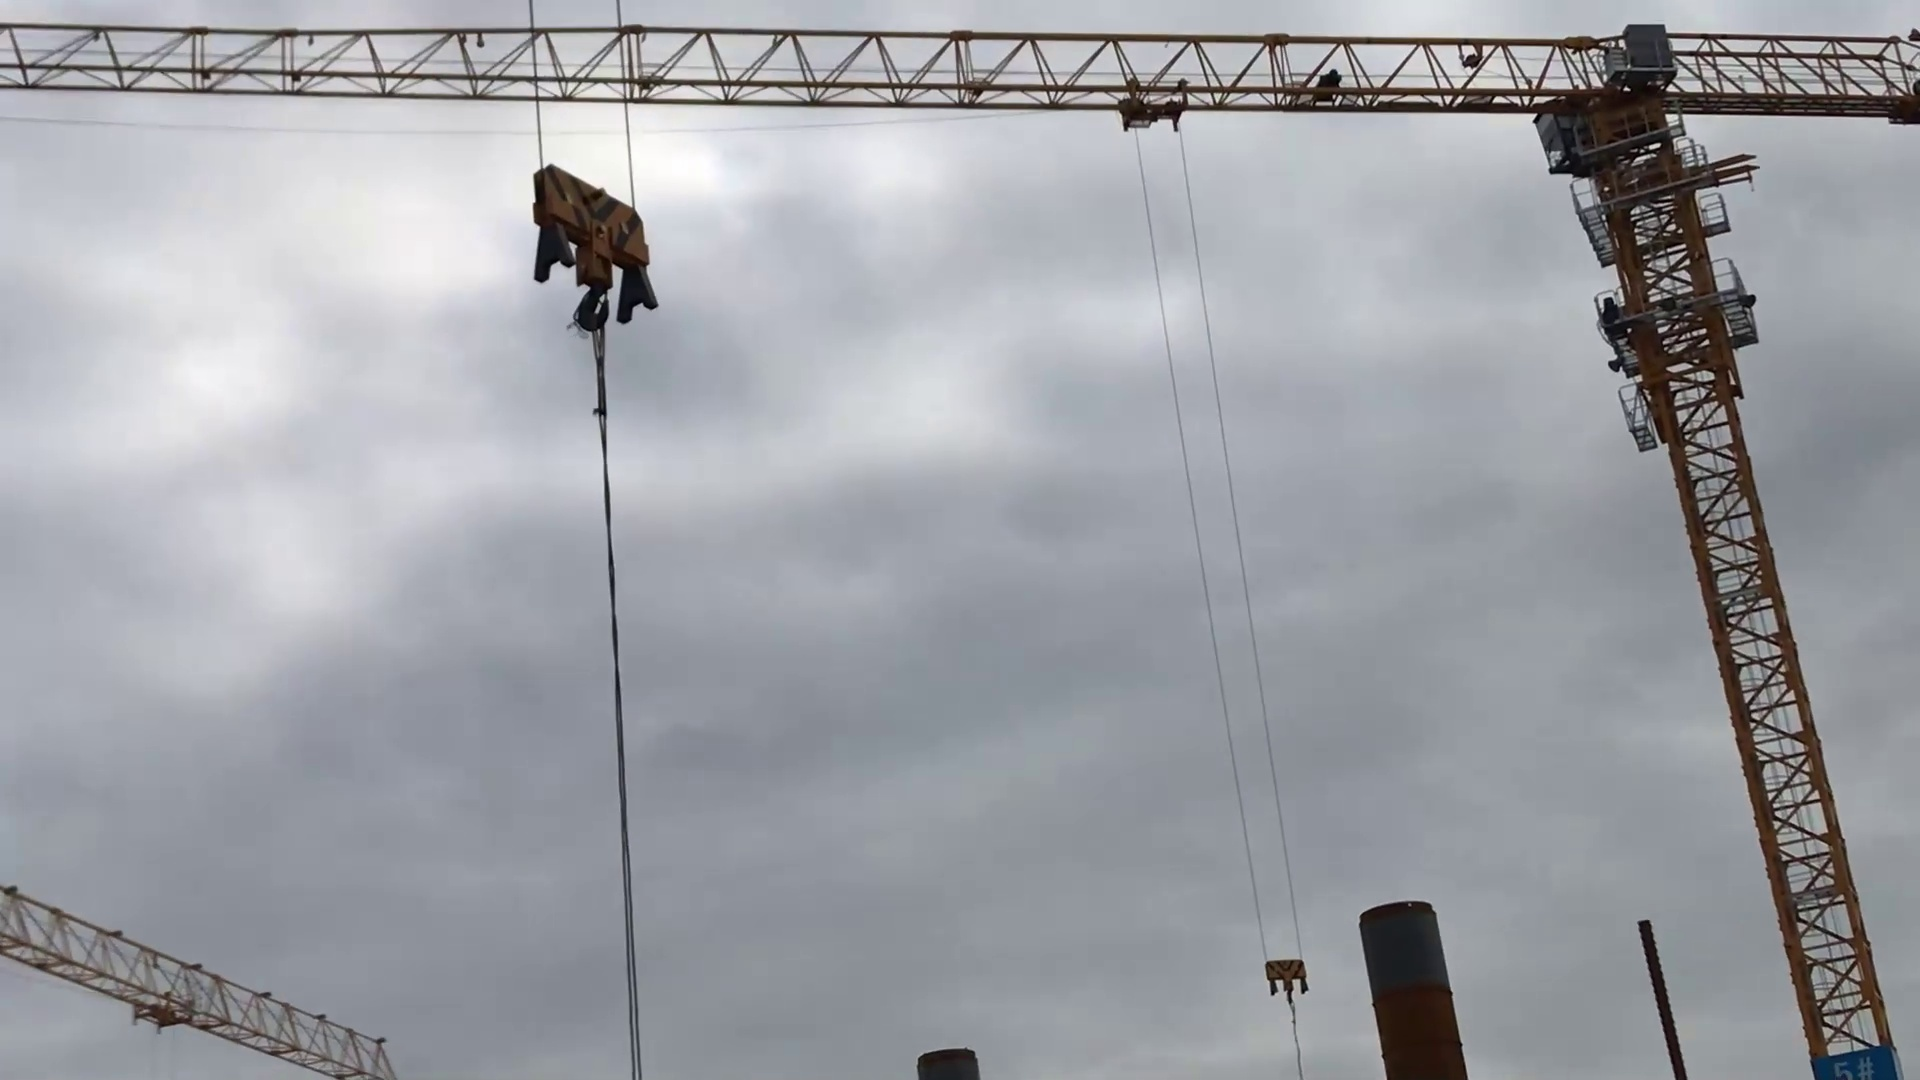hook: (526, 149, 666, 349), (1261, 951, 1320, 1007)
slogan: (1805, 1040, 1905, 1080)
